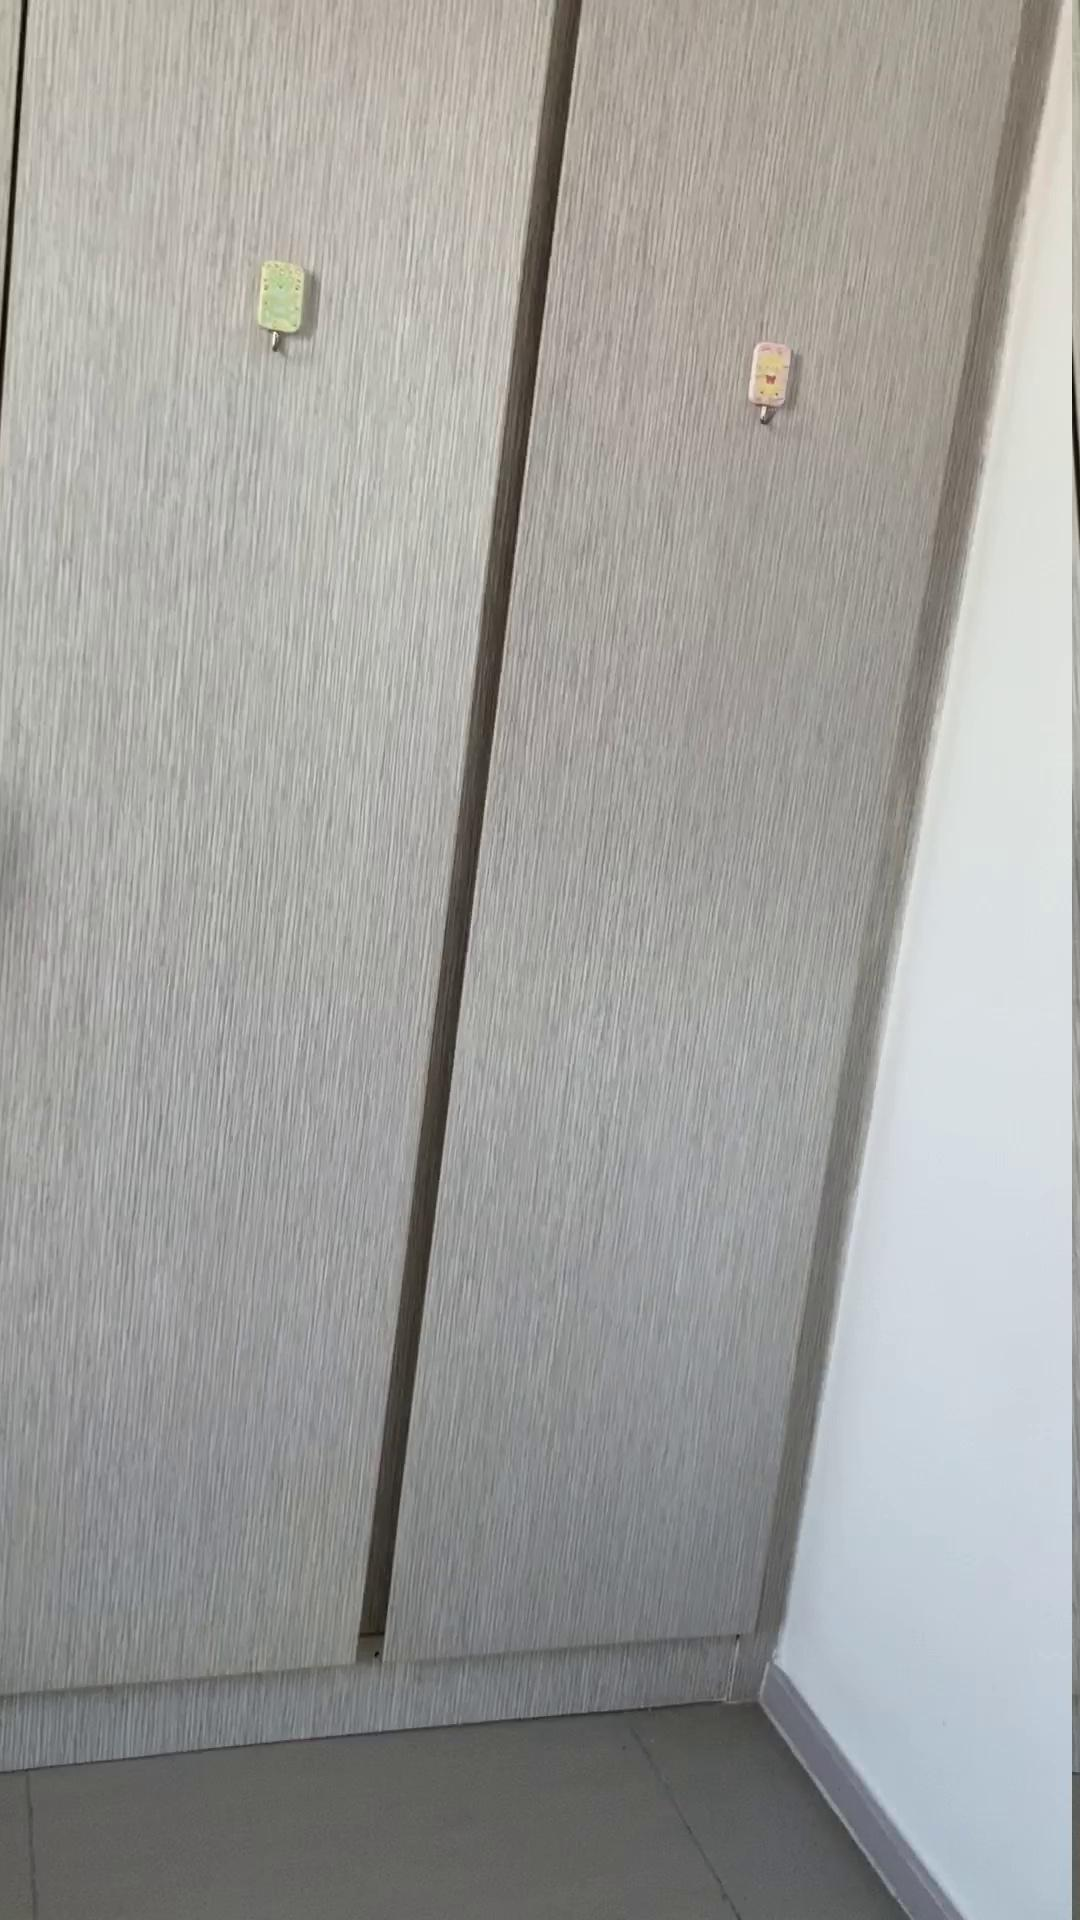Armario: (9, 22, 1026, 1760)
